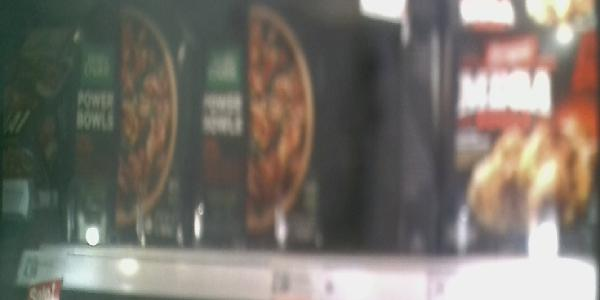pizza1: (450, 3, 596, 259), (248, 5, 376, 254), (118, 5, 247, 246), (3, 5, 118, 245)
